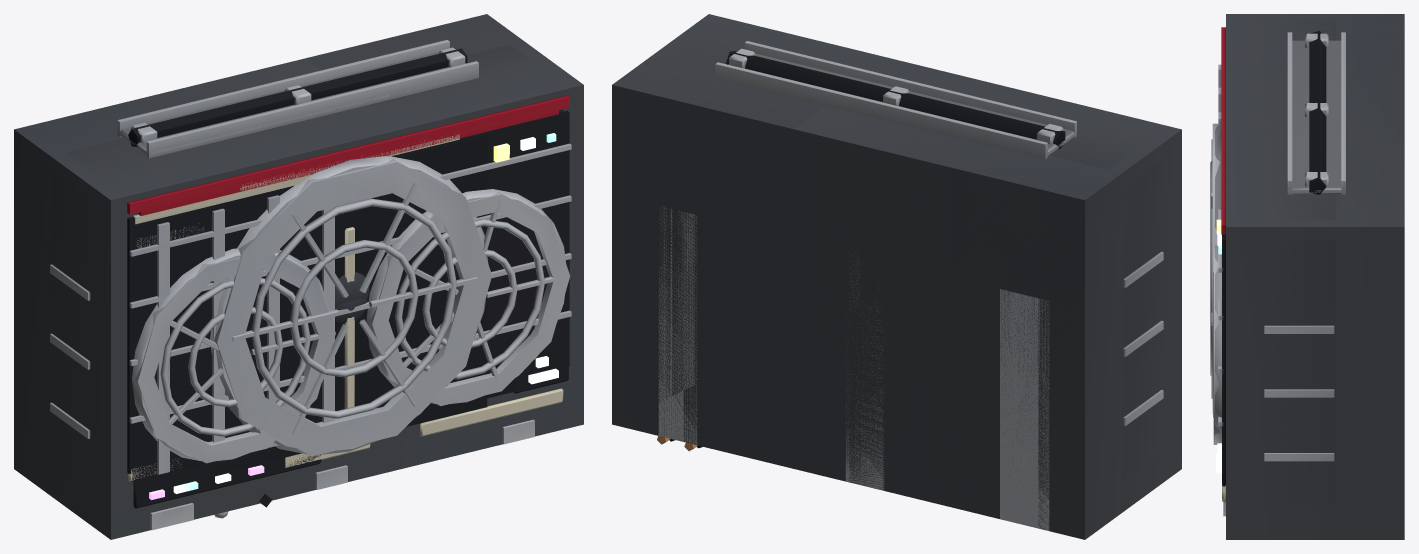
Rendered from wallac327.glb.
3 views of the same model, side by side, from view 1: azimuth 30°, elevation 25°; view 2: azimuth 150°, elevation 25°; view 3: azimuth 270°, elevation 25° (orthographic). The views are drawn at different scales.
Visible parts, largest first — view 1: rk327_LoGA-comp, rk327_LoGA-dark, rk327_MA-steel, rk327_LoMA-steel, rk327_LoSA-comp, rk327_LoTA-steel, rk327_LoMA-dark, rk327_TA-steel, rk327_GA-comp, rk327_LoSA-dark, rk327_MA-dark, rk327_LoSA-steel (+15 smaller); view 2: rk327_LoGA-comp, rk327_LoSA-comp, rk327_GA-steel, rk327_GA-comp, rk327_MA-steel, rk327_SA-steel, rk327_MA-dark, rk327_GB-steel, rk327_SA-comp, rk327_TA-steel; view 3: rk327_LoGA-comp, rk327_GA-comp, rk327_MA-steel, rk327_MA-dark, rk327_LoSA-comp, rk327_GA-steel, rk327_TA-steel, rk327_LoMA-crim, rk327_SA-comp, rk327_LoGA-dark, rk327_LoMA-steel, rk327_LoTA-steel (+2 smaller).
Boxes of the visible parts, x1,y1,x2,y2 form: rk327_LoGA-comp: (14, 14, 583, 539); rk327_LoGA-dark: (127, 111, 569, 474); rk327_MA-steel: (117, 40, 488, 454); rk327_LoMA-steel: (214, 159, 492, 456); rk327_LoSA-comp: (15, 58, 402, 539); rk327_LoTA-steel: (135, 192, 570, 463); rk327_LoMA-dark: (212, 136, 487, 473); rk327_TA-steel: (131, 47, 566, 461); rk327_GA-comp: (51, 44, 573, 508); rk327_LoSA-dark: (131, 193, 384, 481); rk327_MA-dark: (128, 48, 568, 507); rk327_LoSA-steel: (157, 195, 334, 474); rk327_LoGA-comp: (612, 14, 1181, 539); rk327_LoSA-comp: (793, 58, 1180, 538); rk327_GA-steel: (658, 206, 1163, 528); rk327_GA-comp: (669, 32, 1162, 480); rk327_MA-steel: (715, 41, 1076, 159); rk327_SA-steel: (845, 257, 1049, 530); rk327_MA-dark: (726, 51, 1065, 149); rk327_GB-steel: (1000, 290, 1034, 513); rk327_SA-comp: (1050, 123, 1144, 169); rk327_TA-steel: (729, 48, 1063, 144); rk327_LoGA-comp: (1226, 14, 1404, 539); rk327_GA-comp: (1261, 20, 1336, 510); rk327_MA-steel: (1210, 32, 1345, 398); rk327_MA-dark: (1222, 30, 1326, 486); rk327_LoSA-comp: (1226, 14, 1404, 128); rk327_GA-steel: (1223, 325, 1334, 516); rk327_TA-steel: (1213, 33, 1328, 443); rk327_LoMA-crim: (1221, 27, 1225, 234); rk327_SA-comp: (1261, 20, 1336, 138); rk327_LoGA-dark: (1222, 236, 1225, 474); rk327_LoMA-steel: (1212, 123, 1219, 413); rk327_LoTA-steel: (1213, 247, 1220, 444).
Bounding box in the file's own units: 0.868 × 0.6842 × 0.332.
